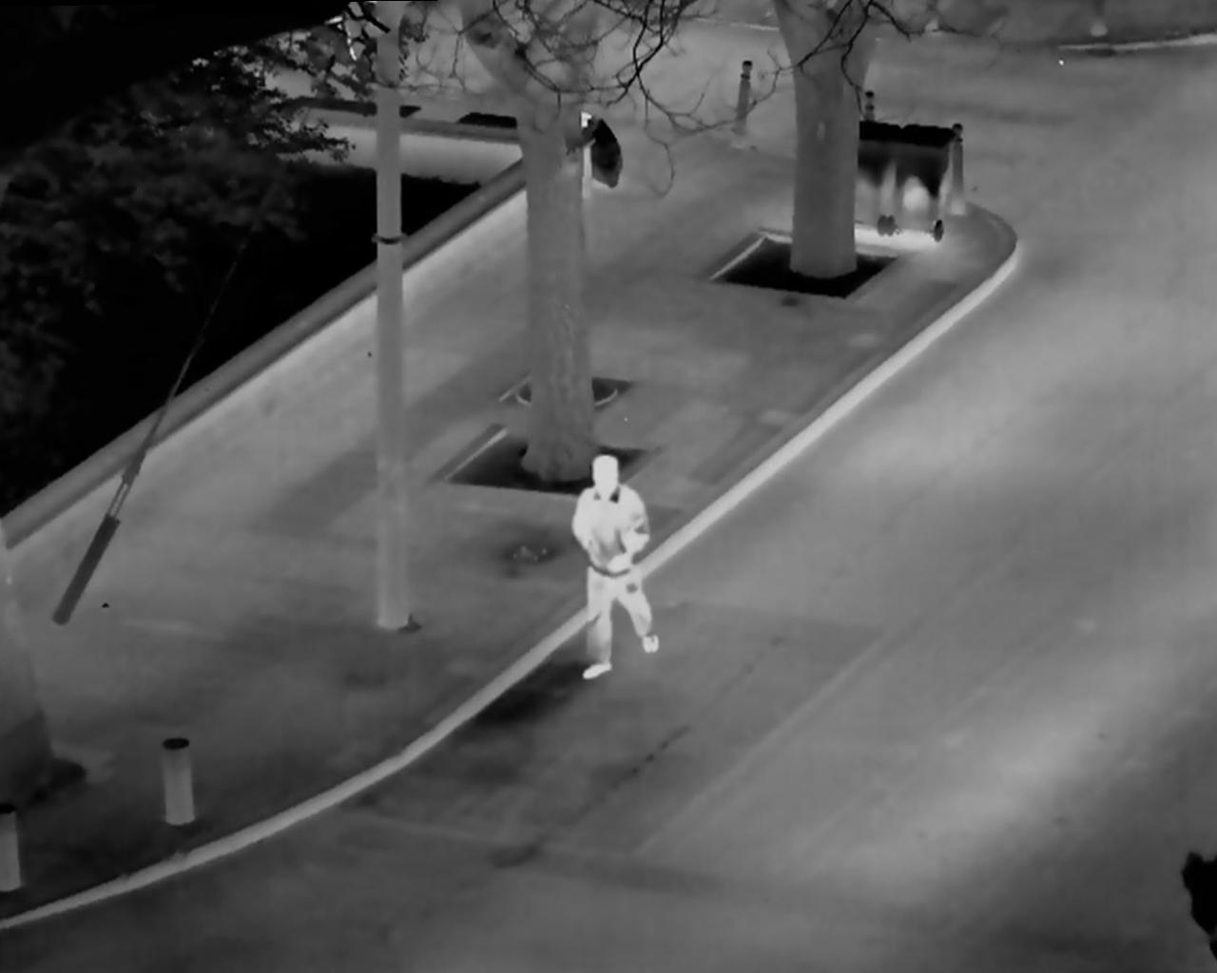person: (560, 449, 668, 689)
